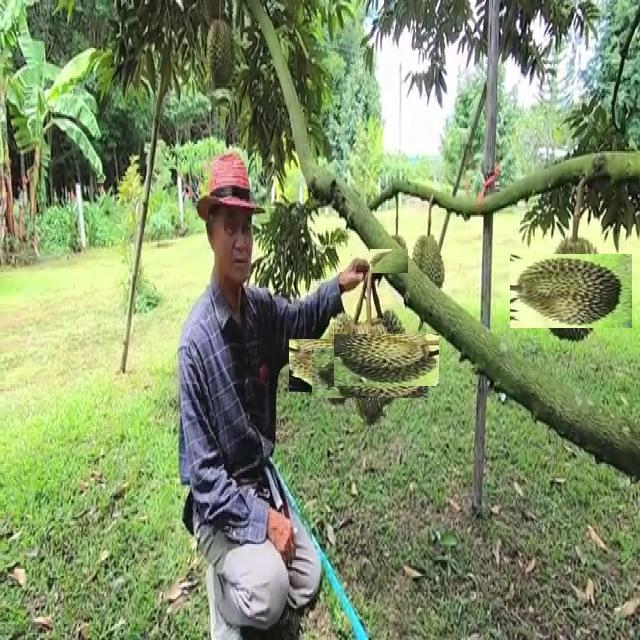durian: (522, 242, 621, 340), (328, 332, 411, 415), (347, 320, 426, 400), (302, 326, 380, 405), (408, 227, 448, 309), (202, 14, 238, 94), (378, 241, 417, 280)
